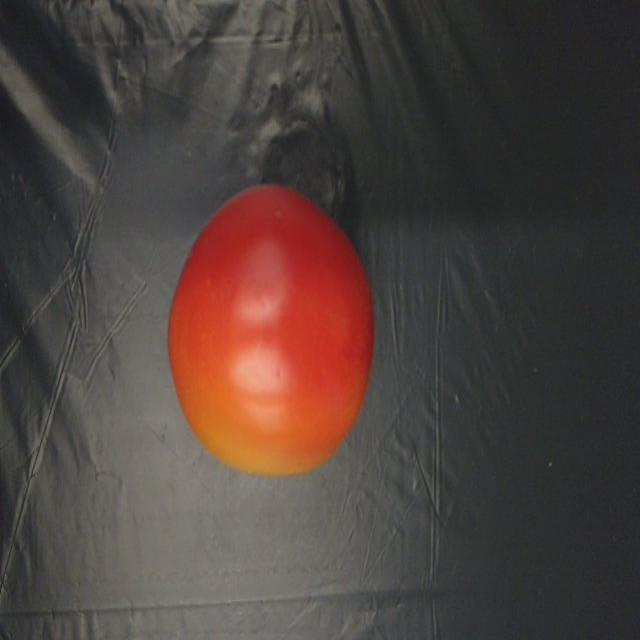sari: (160, 162, 369, 497)
